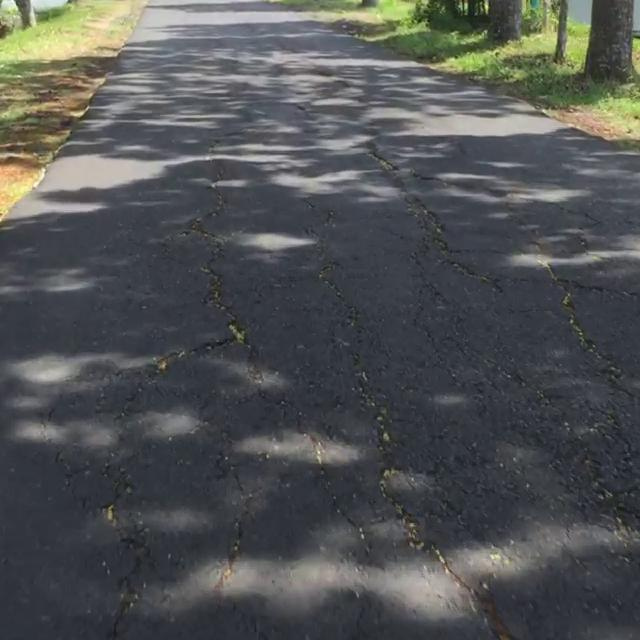retak_memanjang: (127, 161, 253, 427)
